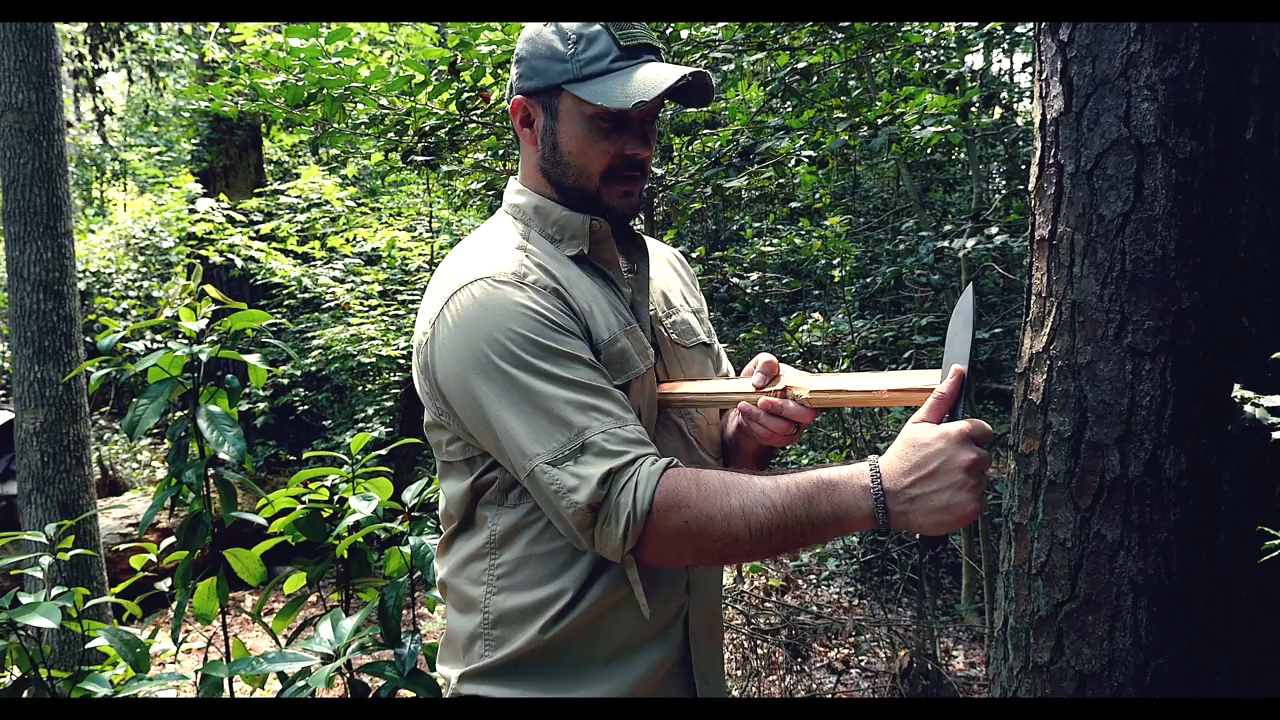knife: (915, 271, 1002, 501)
